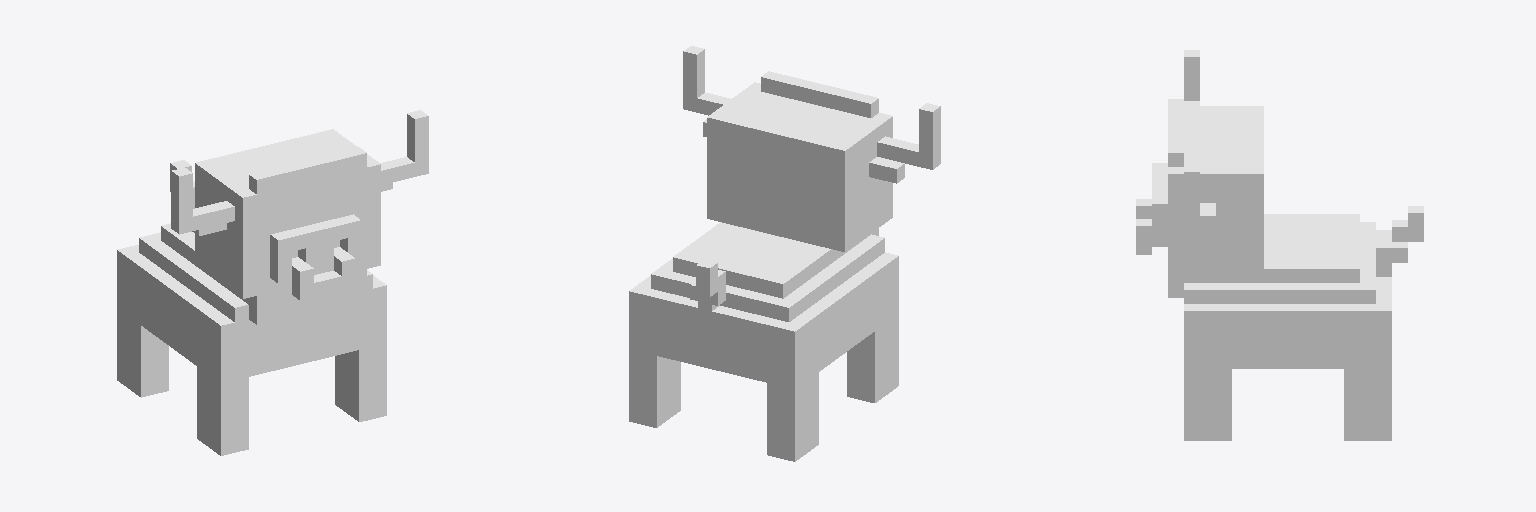
The model's file is Bull_Vanilla.obj.
3 renders of one model, left to right at view 1: azimuth 30°, elevation 25°; view 2: azimuth 150°, elevation 25°; view 3: azimuth 270°, elevation 25°, orthographic.
Parts seen in each view (by area): view 1: object 1; view 2: object 1; view 3: object 1.
Boxes of the visible parts, x1=… form: object 1: x1=117, y1=110, x2=428, y2=455; object 1: x1=629, y1=46, x2=940, y2=461; object 1: x1=1136, y1=50, x2=1423, y2=440.
Bounding box in the file's own units: 1.8 × 2 × 1.8.